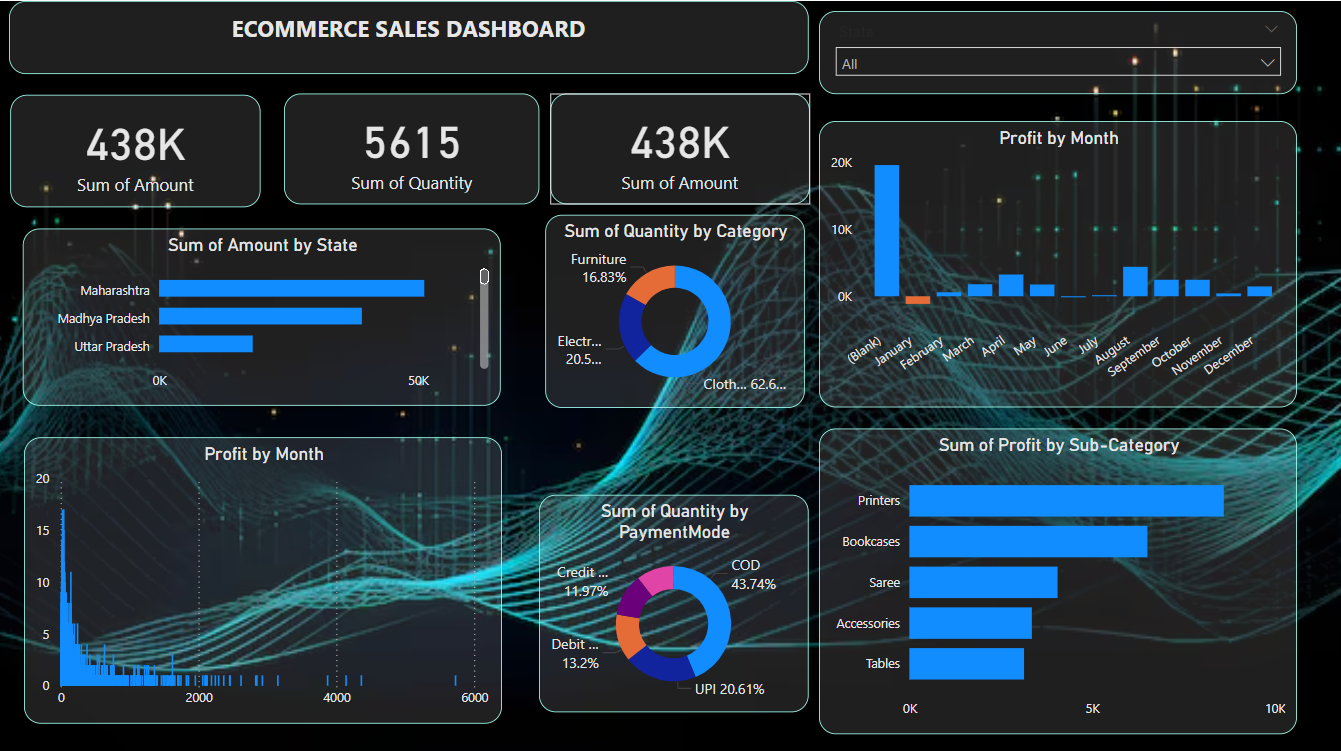

Layout of this report page (visuals, bound fields, positions):
{"tool":"powerbi","page":{"name":"Page 1","canvas":[1280,720],"ordinal":0},"visuals":[{"type":"textbox","box":[9.6,0,761.6,70],"z":0},{"type":"columnChart","title":"Profit by Month","fields":{"Category":["Orders.Order Date.Variation.Date Hierarchy.Month"],"Y":["Sum(Details.Profit)"]},"box":[780.8,113.9,455.6,273.1],"z":1000},{"type":"barChart","fields":{"Category":["Details.Sub-Category"],"Y":["Sum(Details.Profit)"]},"box":[780.8,407.5,455.6,290.9],"z":2000},{"type":"donutChart","fields":{"Category":["Details.Category"],"Y":["Sum(Details.Quantity)"]},"box":[520.1,203.1,247,183.9],"z":3000},{"type":"donutChart","fields":{"Y":["Sum(Details.Quantity)"],"Category":["Details.PaymentMode"]},"box":[514.6,470.7,256.6,207.2],"z":4000},{"type":"card","fields":{"Values":["Sum(Details.Amount)"]},"box":[10.2,89.5,238.8,107],"z":5000},{"type":"card","fields":{"Values":["Sum(Details.Quantity)"]},"box":[271.7,87.8,242.9,105.7],"z":6000},{"type":"card","fields":{"Values":["Sum(Details.Amount)"]},"box":[525.6,88.1,247,105.4],"z":7000},{"type":"barChart","fields":{"Y":["Sum(Details.Amount)"],"Category":["Orders.State"]},"box":[23.1,216.3,455.6,168.8],"z":8000},{"type":"columnChart","title":"Profit by Month","fields":{"Y":["CountNonNull(Details.Category)"],"Category":["Details.Amount"]},"box":[23.3,415.8,455.6,273.1],"z":9000},{"type":"slicer","fields":{"Values":["Orders.State"]},"box":[780.8,9.6,455.6,79.6],"z":10000}]}

Visuals, with their boxes in screenshot pixels (x1, y1, x2, y2), scaled from the page's 1280x720 canvas onto the 1341x751 screenshot:
textbox: [x1=10, y1=0, x2=808, y2=73]
"Profit by Month" columnChart: [x1=818, y1=119, x2=1295, y2=404]
barChart - Details.Sub-Category x Sum(Details.Profit): [x1=818, y1=425, x2=1295, y2=728]
donutChart - Details.Category x Sum(Details.Quantity): [x1=545, y1=212, x2=804, y2=404]
donutChart - Sum(Details.Quantity) x Details.PaymentMode: [x1=539, y1=491, x2=808, y2=707]
card - Sum(Details.Amount): [x1=11, y1=93, x2=261, y2=205]
card - Sum(Details.Quantity): [x1=285, y1=92, x2=539, y2=202]
card - Sum(Details.Amount): [x1=551, y1=92, x2=809, y2=202]
barChart - Sum(Details.Amount) x Orders.State: [x1=24, y1=226, x2=502, y2=402]
"Profit by Month" columnChart: [x1=24, y1=434, x2=502, y2=719]
slicer - Orders.State: [x1=818, y1=10, x2=1295, y2=93]
